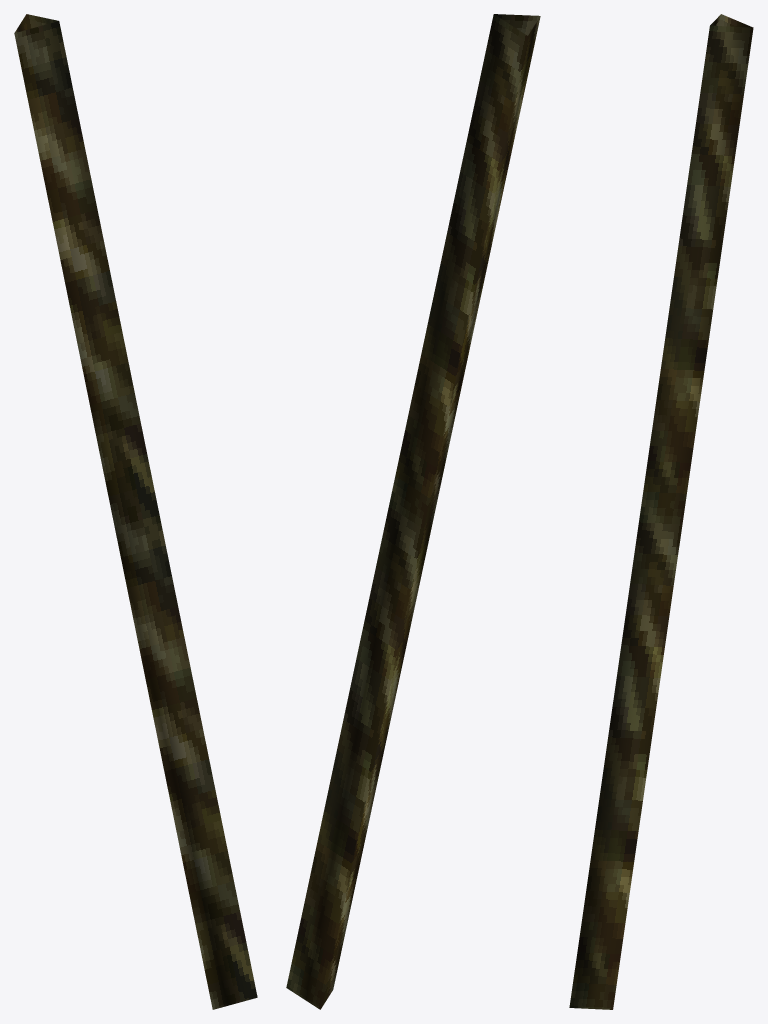
File: OVERHILL_A_01_ROPE_LINE_09.fbx
The picture shows the model from 3 angles, left to right: view 1: azimuth 30°, elevation 25°; view 2: azimuth 210°, elevation 25°; view 3: azimuth 270°, elevation 25°; orthographic projection. The views are drawn at different scales.
Parts seen in each view (by area): view 1: OVERHILL_A_01_ROPE_LINE_09; view 2: OVERHILL_A_01_ROPE_LINE_09; view 3: OVERHILL_A_01_ROPE_LINE_09.
Boxes of the visible parts, box(x1,y1,x2,y2) form: OVERHILL_A_01_ROPE_LINE_09: box(14, 14, 257, 1009); OVERHILL_A_01_ROPE_LINE_09: box(286, 14, 540, 1009); OVERHILL_A_01_ROPE_LINE_09: box(569, 14, 753, 1009).
Size of the model in its own units: 1905 by 10614 by 1905.
Materials: 1 (1 with a texture image).
